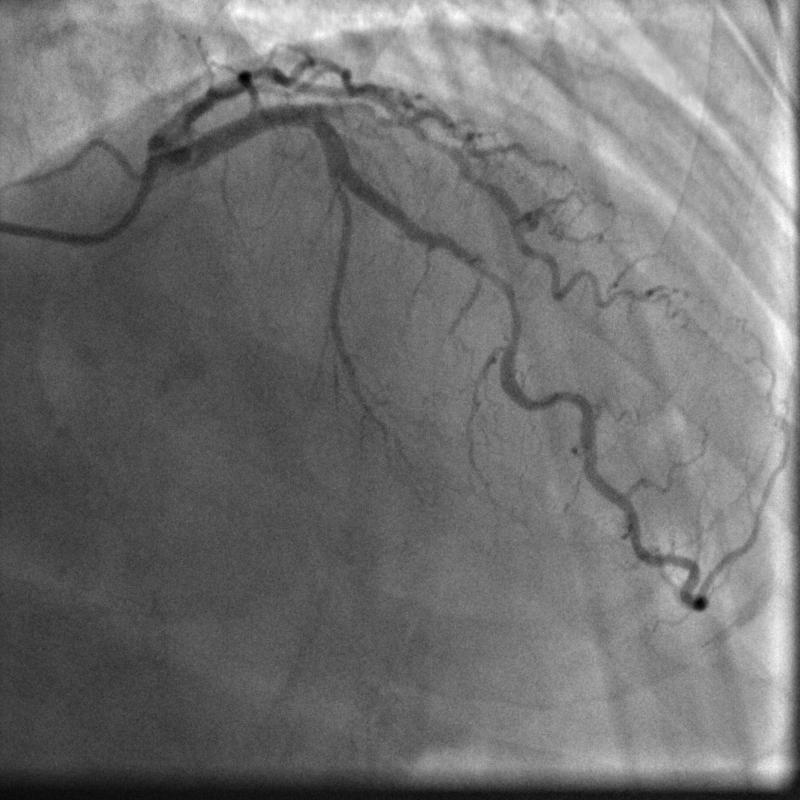Stenosis: (485, 270, 521, 350)
